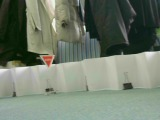stop: (40, 54, 56, 69)
